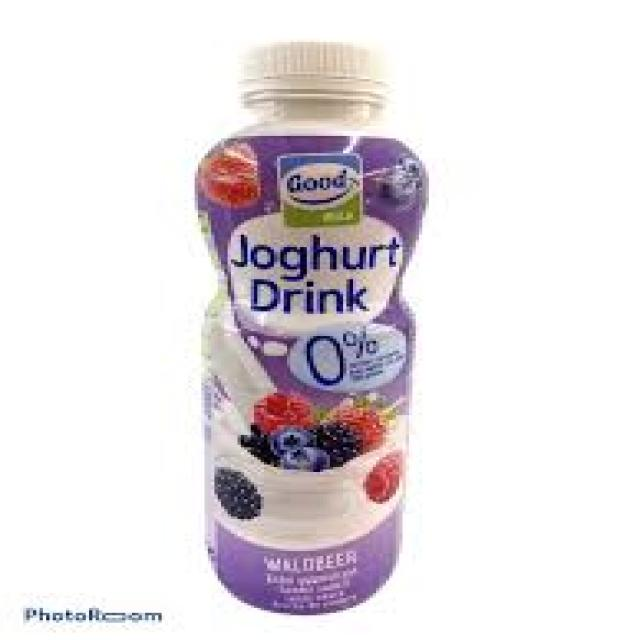plastic: (195, 42, 426, 613)
